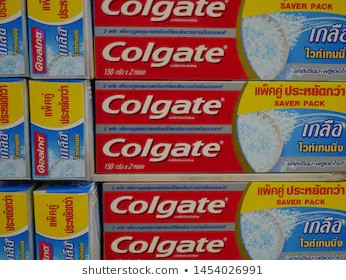colgate-family: (93, 79, 346, 184), (93, 1, 346, 81), (100, 184, 346, 260)
